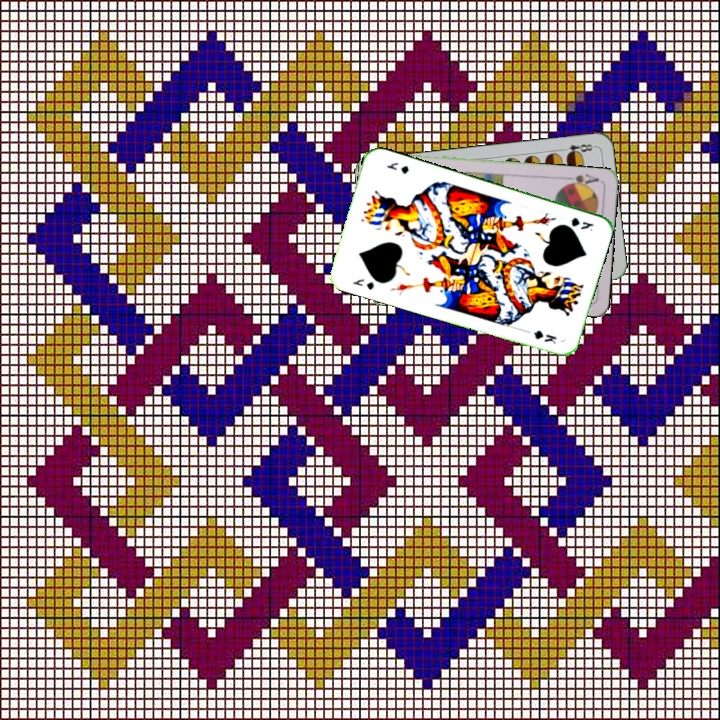E8: (557, 140, 597, 159)
GK: (567, 213, 596, 234), (349, 275, 377, 293)
SA: (561, 170, 602, 190)
